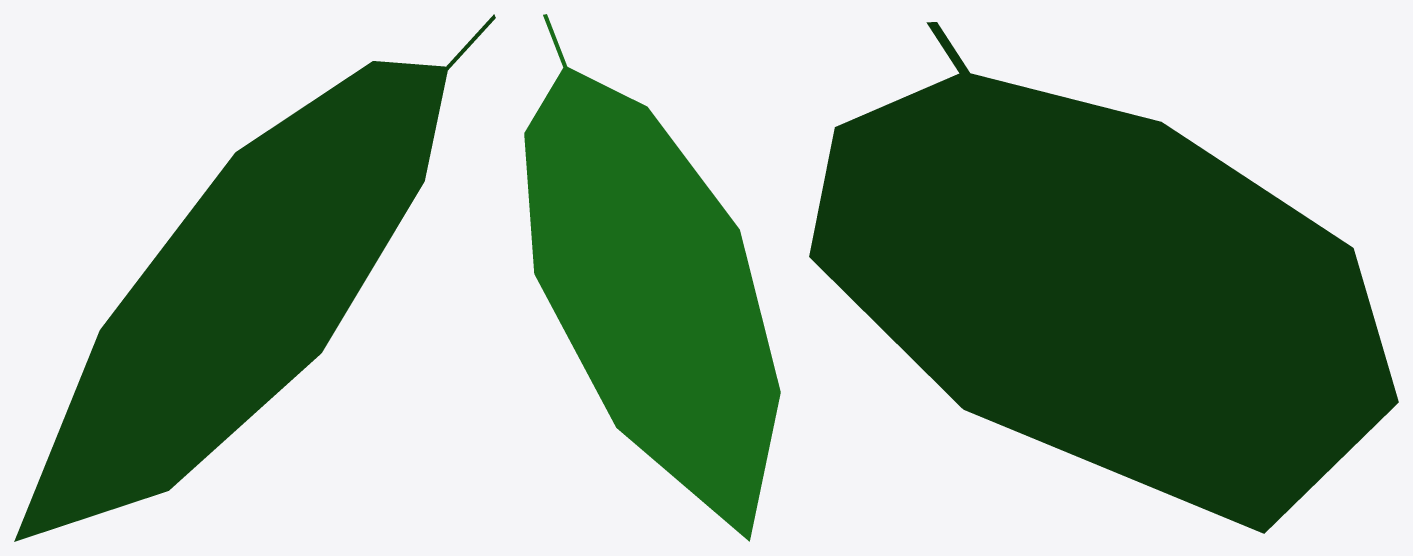
Rendered from Leaves.061.obj.
The picture shows the model from 3 angles, left to right: view 1: azimuth 30°, elevation 25°; view 2: azimuth 150°, elevation 25°; view 3: azimuth 270°, elevation 25°; orthographic projection. The views are drawn at different scales.
Parts seen in each view (by area): view 1: Leaves.061_leaves.061; view 2: Leaves.061_leaves.061; view 3: Leaves.061_leaves.061.
Boxes of the visible parts, x1,y1,x2,y2 form: Leaves.061_leaves.061: (14,14,495,541); Leaves.061_leaves.061: (524,14,780,541); Leaves.061_leaves.061: (809,22,1398,533).
Size of the model in its own units: 0.0871 by 0.1144 by 0.0771.
